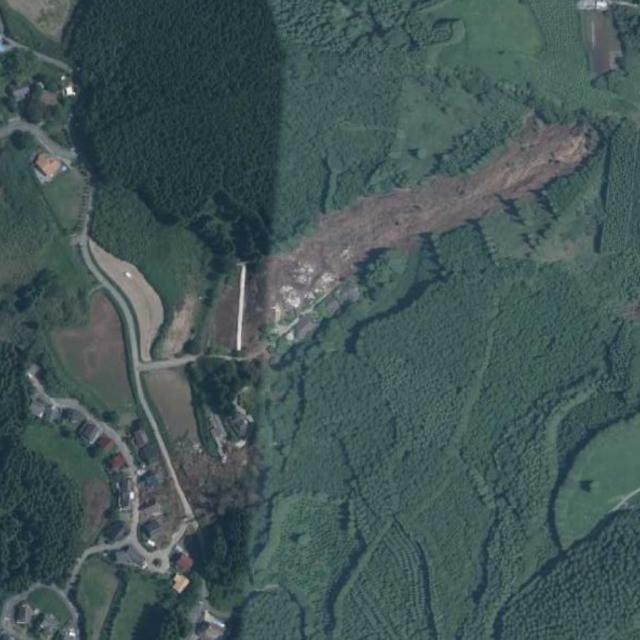landslide: (267, 114, 599, 335)
